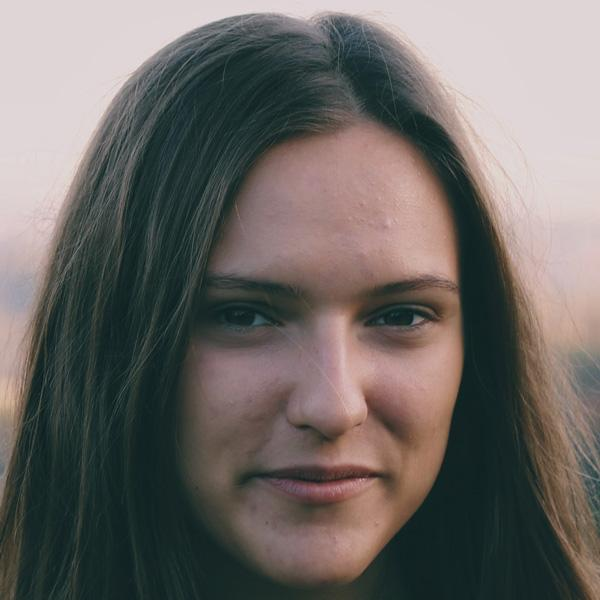Eyes: (194, 292, 295, 344), (354, 289, 446, 343)
